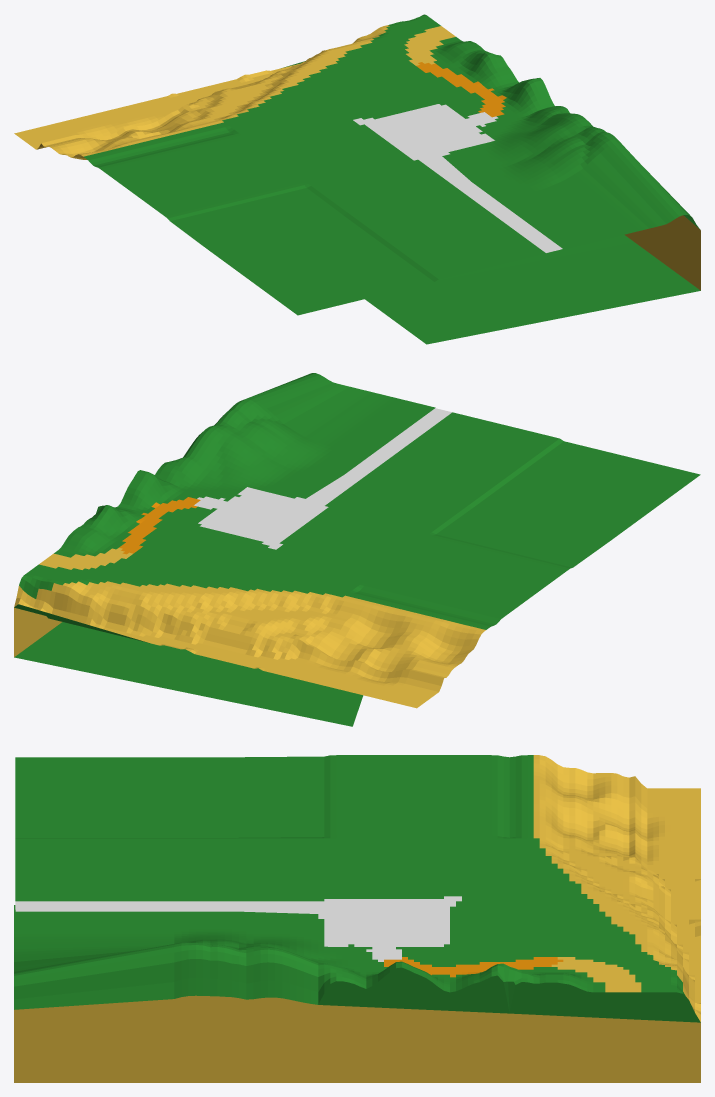
The model's file is level3-area3.fbx.
3 views of the same model, one above another, from view 1: azimuth 30°, elevation 25°; view 2: azimuth 150°, elevation 25°; view 3: azimuth 270°, elevation 25° (orthographic). The views are drawn at different scales.
Parts seen in each view (by area): view 1: Level3Area3; view 2: Level3Area3; view 3: Level3Area3.
Boxes of the visible parts, bbox=[...] form: Level3Area3: bbox=[14, 14, 700, 344]; Level3Area3: bbox=[14, 373, 700, 726]; Level3Area3: bbox=[14, 755, 700, 1082].
Size of the model in its own units: 14673 by 3685 by 17955.
